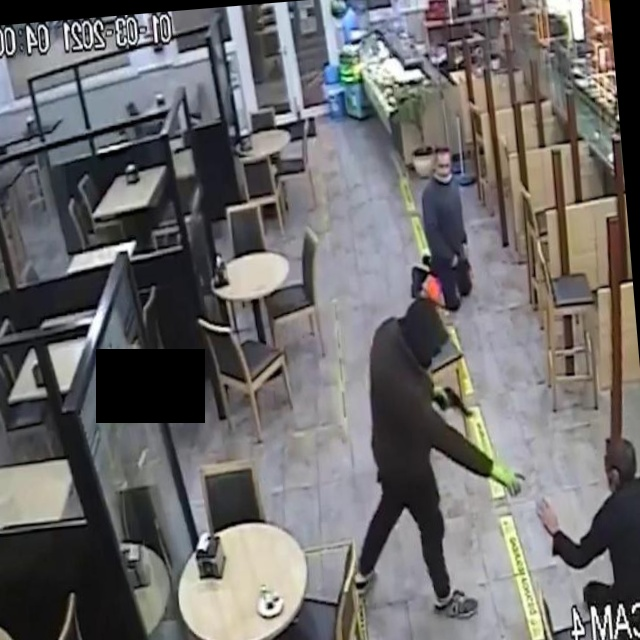gun: (425, 373, 484, 436)
